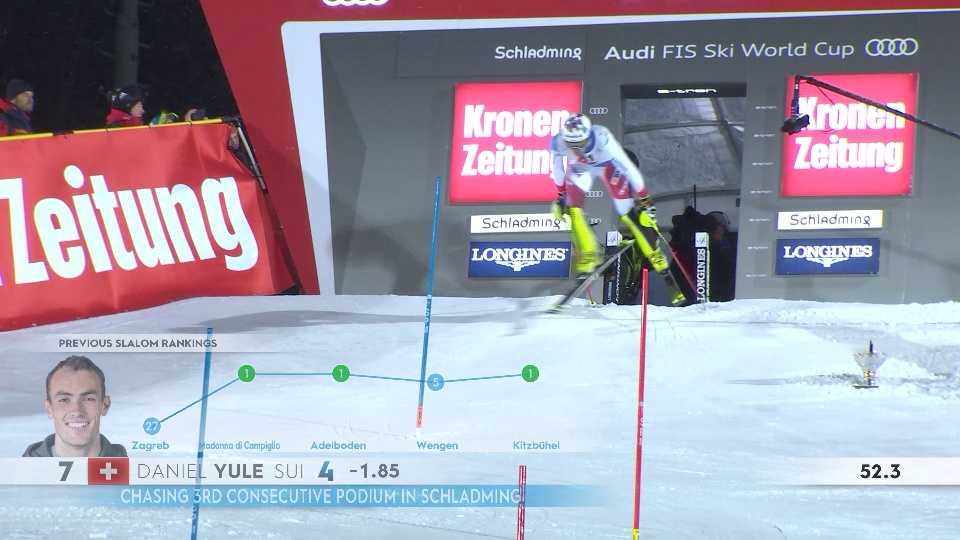audi: (865, 37, 920, 60), (319, 1, 398, 14), (587, 107, 615, 118), (584, 190, 607, 202)
etron: (659, 86, 716, 97), (751, 130, 781, 143), (752, 103, 782, 114), (749, 158, 779, 169), (748, 188, 776, 198)
kronenzeitung: (1, 124, 282, 320), (794, 89, 909, 182), (464, 99, 573, 185)
longines: (779, 240, 882, 272), (472, 245, 575, 275), (696, 245, 710, 303)
schladming: (777, 210, 882, 233), (471, 209, 576, 232), (489, 42, 594, 65)
